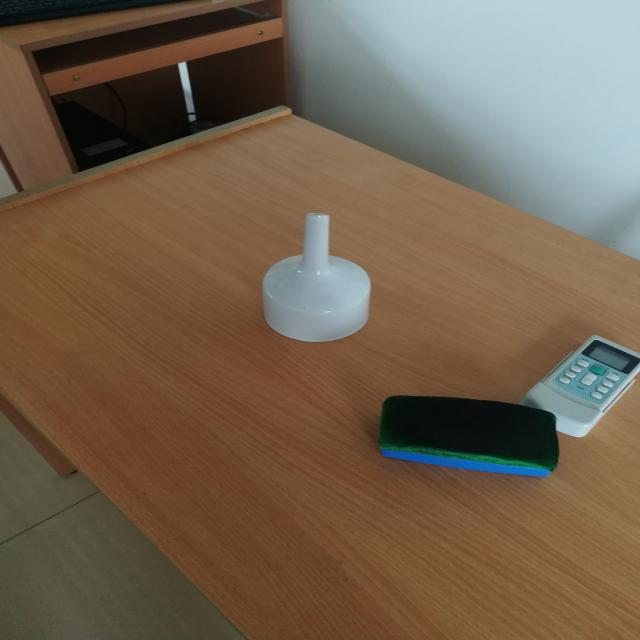Buchner_Funnel: (235, 189, 402, 372)
